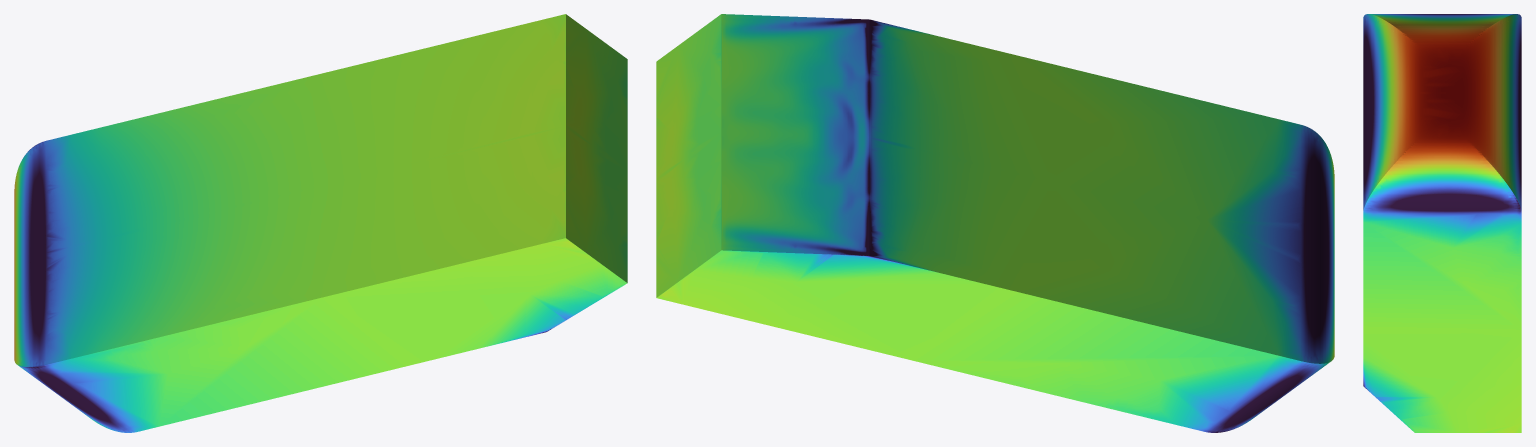
File: ahmed-cp.glb
3 renders of one model, left to right at view 1: azimuth 30°, elevation 25°; view 2: azimuth 150°, elevation 25°; view 3: azimuth 270°, elevation 25°, orthographic. The views are drawn at different scales.
Visible parts, largest first — view 1: Renderer Node; view 2: Renderer Node; view 3: Renderer Node.
Part boxes in pixels (left/top/right/bottom): Renderer Node: left=14, top=14, right=627, bottom=432; Renderer Node: left=656, top=14, right=1334, bottom=432; Renderer Node: left=1363, top=14, right=1521, bottom=432.
Size of the model in its own units: 1.04 by 0.389 by 0.288.
Materials: 1 (1 with a texture image).
